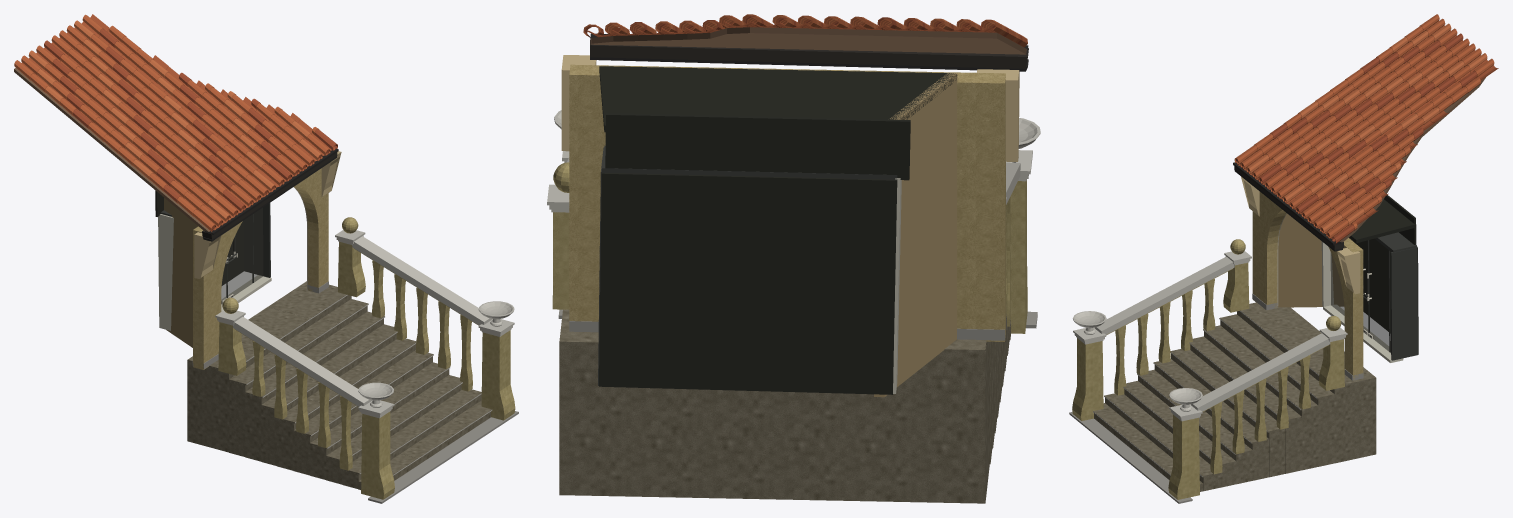
File: map-porch-lod.glb
3 views of the same model, side by side, from view 1: azimuth 30°, elevation 25°; view 2: azimuth 150°, elevation 25°; view 3: azimuth 270°, elevation 25° (orthographic). The views are drawn at different scales.
Visible parts, largest first — view 1: 长乐路325号院内弧窗与红瓦券廊; view 2: 长乐路325号院内弧窗与红瓦券廊; view 3: 长乐路325号院内弧窗与红瓦券廊.
Boxes of the visible parts, left/top/right/bottom form: 长乐路325号院内弧窗与红瓦券廊: left=14, top=14, right=518, bottom=503; 长乐路325号院内弧窗与红瓦券廊: left=547, top=14, right=1040, bottom=503; 长乐路325号院内弧窗与红瓦券廊: left=1069, top=14, right=1498, bottom=503.
Size of the model in its own units: 7.96 by 7.06 by 8.54.
23 materials, 3 textured.
